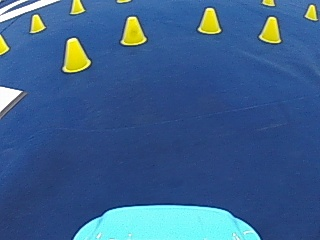cone: (61, 37, 91, 72), (120, 15, 146, 45), (197, 6, 222, 34), (258, 15, 282, 43), (29, 13, 45, 33), (304, 3, 317, 20), (69, 0, 84, 14), (0, 34, 9, 54)
